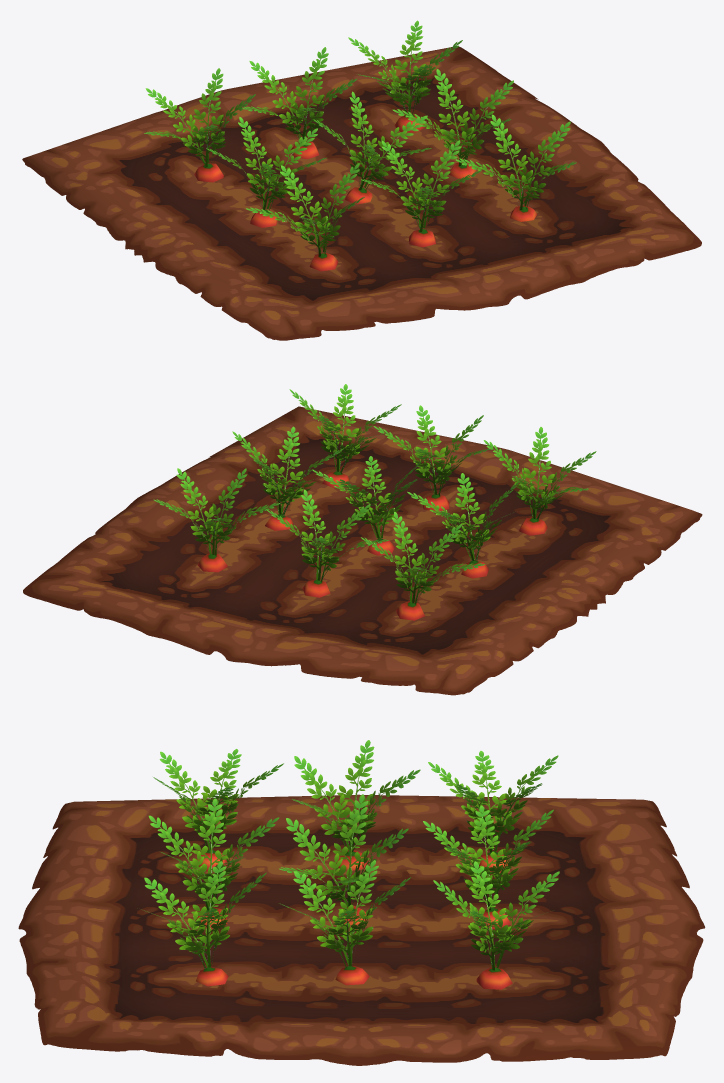
Rendered from Carrot_Field_Lv2.FBX.
3 renders of one model, top to bottom at view 1: azimuth 30°, elevation 25°; view 2: azimuth 150°, elevation 25°; view 3: azimuth 270°, elevation 25°, orthographic. The views are drawn at different scales.
Parts seen in each view (by area): view 1: Carrot_Field_Lv2; view 2: Carrot_Field_Lv2; view 3: Carrot_Field_Lv2.
Boxes of the visible parts, x1,y1,x2,y2 form: Carrot_Field_Lv2: (22,20,701,340); Carrot_Field_Lv2: (23,384,702,695); Carrot_Field_Lv2: (18,740,705,1065).
Size of the model in its own units: 274 by 77.06 by 296.
